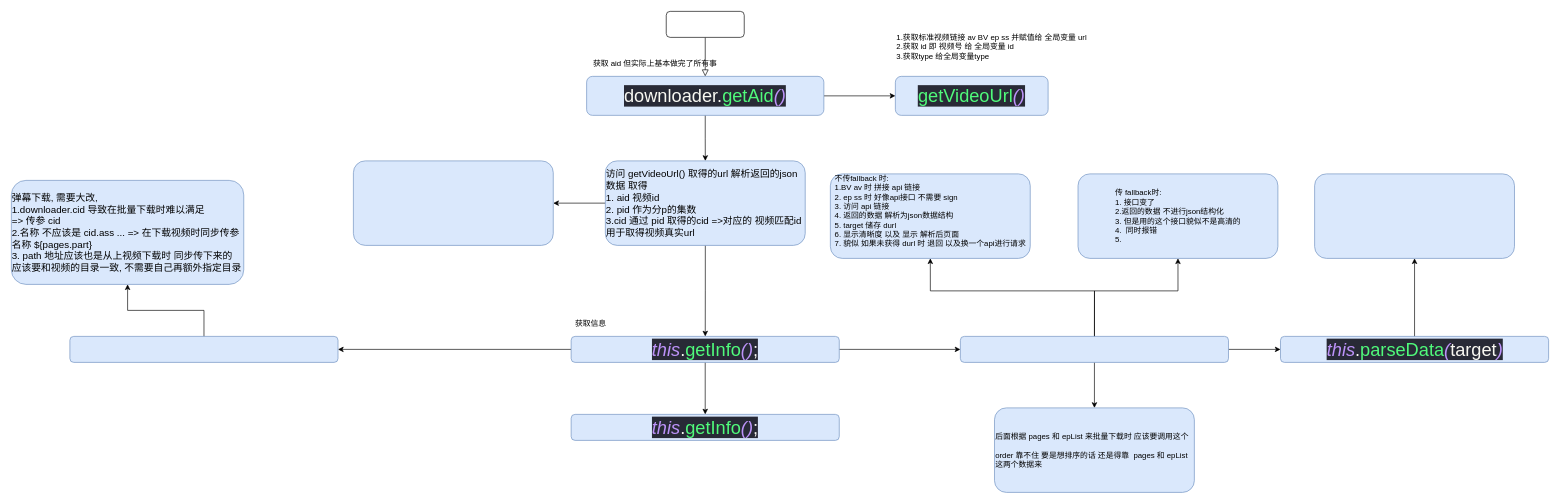
Some shapes in this 1560 by 504 pixel diagram are drawn without their labels. The shapes that lost their labels are listed below. From the top down, each one's centre as x and y in pixels, then its label:
point (705, 24): 用户输入链接
point (453, 202): 暂时改进为 同时获取所有分P的json数据
point (1414, 215): 将 durl 的数据传进去 并添加到 html 的表内 顺序时 order length size
point (203, 349): getDanmaku () ;
point (1094, 349): this . getData () ;
